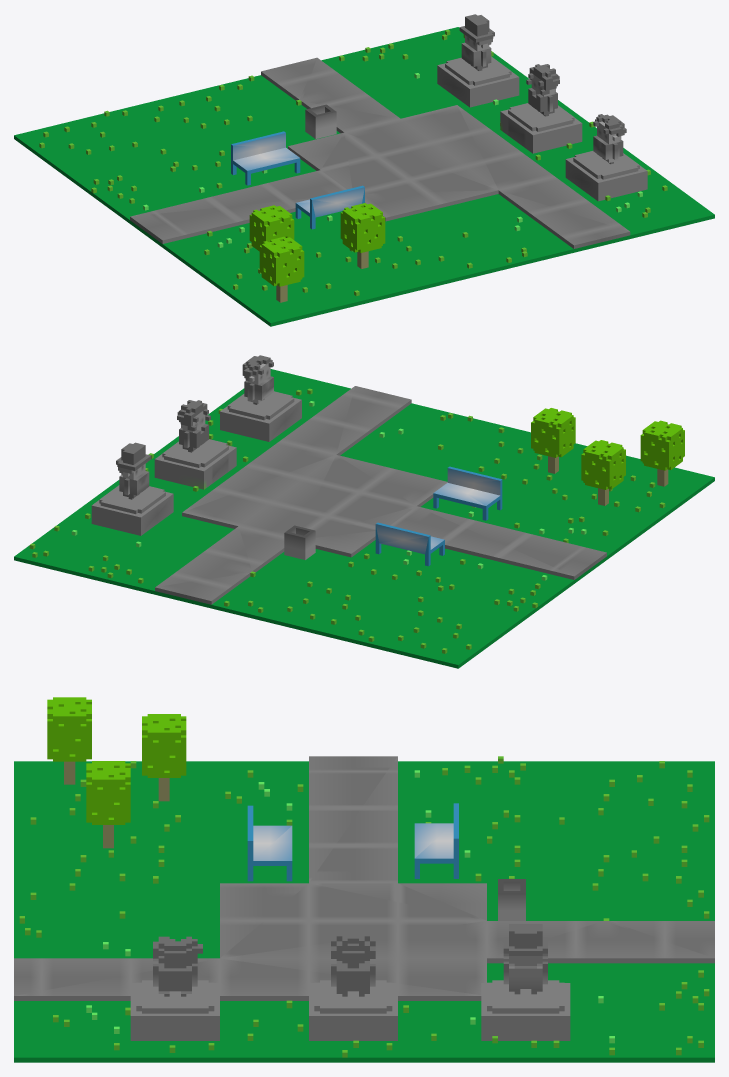
File: scene_park.dae
3 renders of one model, top to bottom at view 1: azimuth 30°, elevation 25°; view 2: azimuth 150°, elevation 25°; view 3: azimuth 270°, elevation 25°, orthographic. The views are drawn at different scales.
Visible parts, largest first — view 1: scene_park; view 2: scene_park; view 3: scene_park.
Part boxes in pixels (<box>): scene_park: <box>14,14,714,326</box>; scene_park: <box>14,355,714,668</box>; scene_park: <box>14,697,714,1062</box>.
Bounding box in the file's own units: 12.6 × 12.6 × 2.
